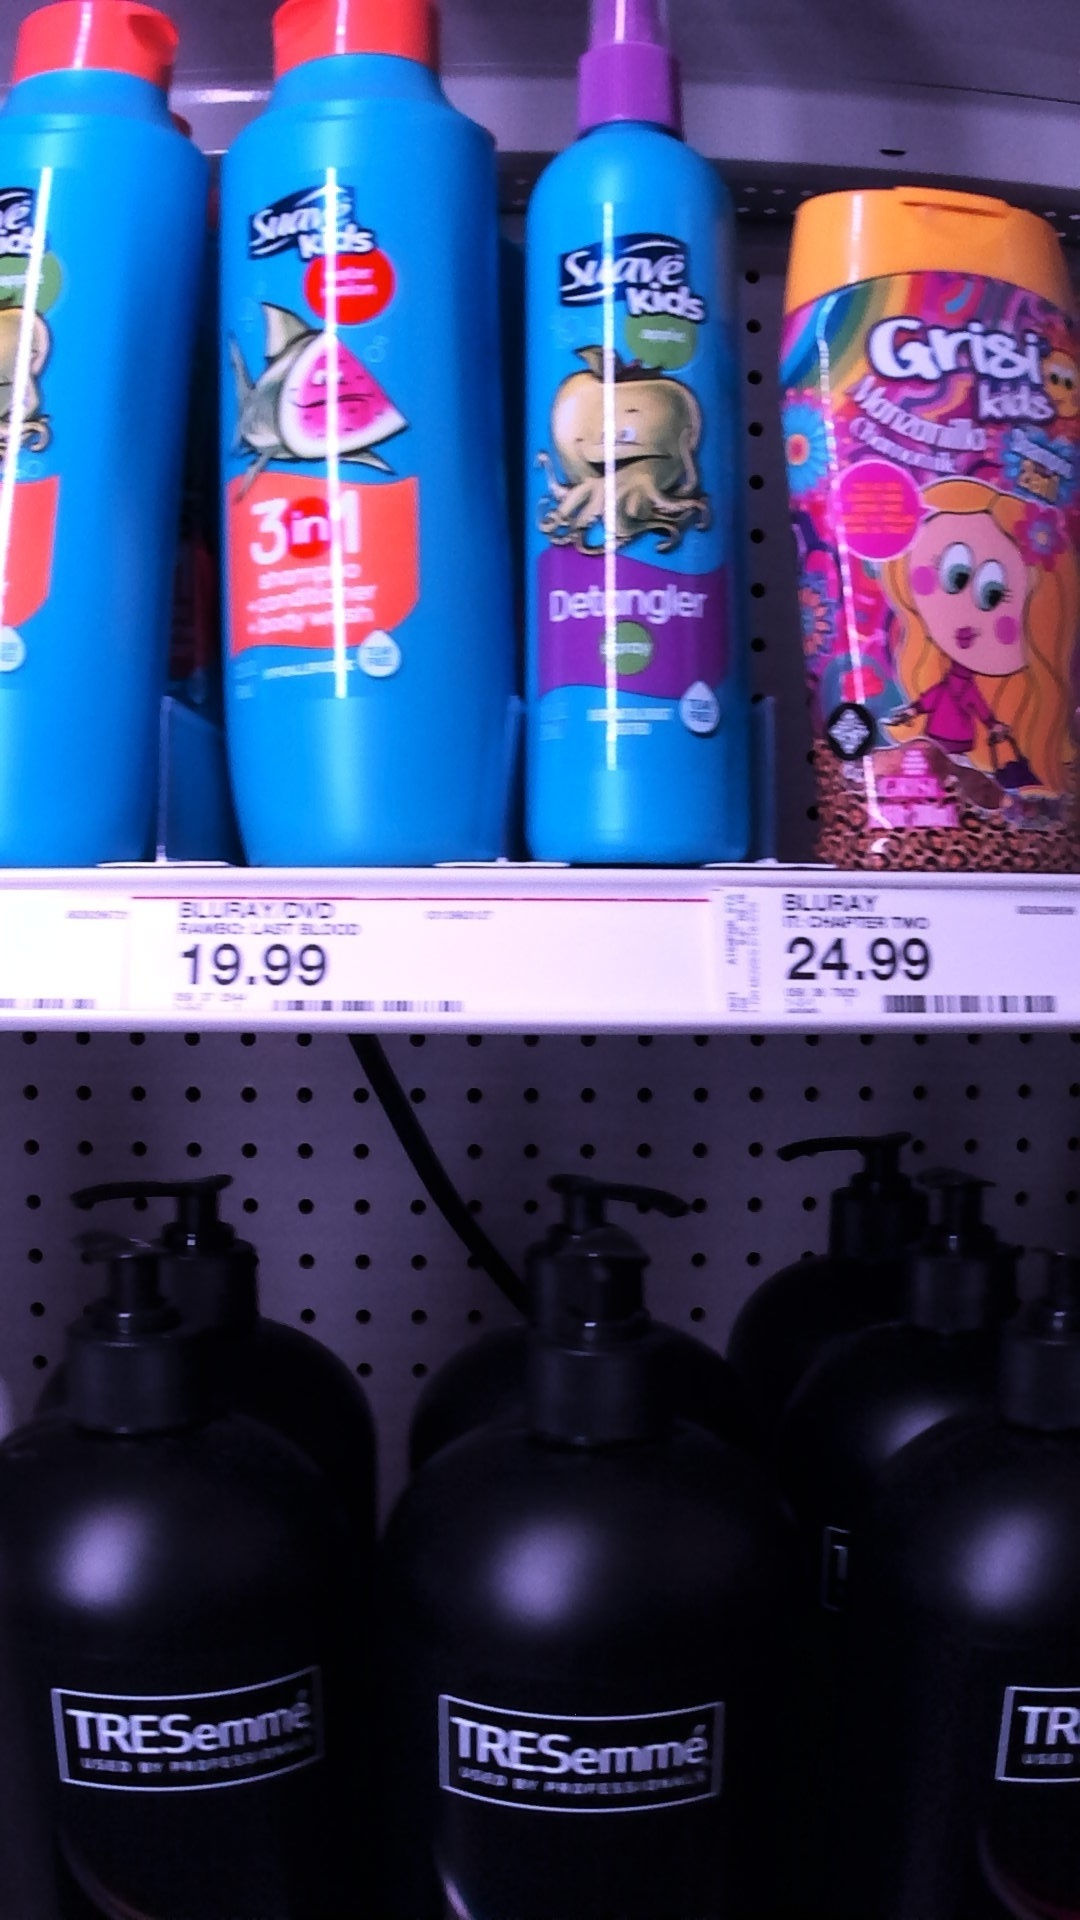ptag: (717, 866, 1075, 1031), (179, 897, 506, 1029)
